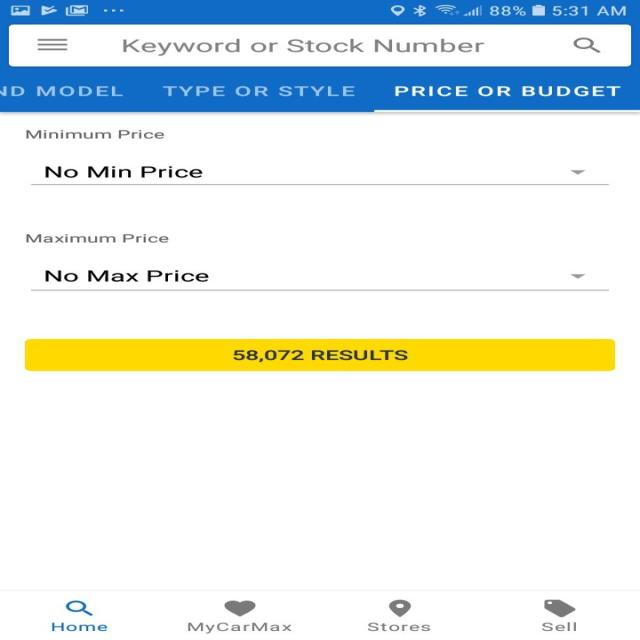EditText: (9, 24, 631, 67), (30, 164, 609, 186), (30, 270, 609, 291)
Icon: (542, 598, 575, 617), (223, 600, 256, 616), (64, 600, 94, 616), (572, 38, 600, 53), (36, 38, 68, 51), (388, 599, 410, 617), (569, 170, 586, 174), (569, 274, 585, 278)
Text: (122, 38, 484, 56), (394, 85, 620, 96), (162, 85, 354, 97), (44, 165, 202, 178), (44, 270, 209, 282), (26, 233, 169, 243), (25, 129, 164, 139), (186, 621, 292, 634), (0, 85, 124, 96), (367, 621, 430, 631), (51, 621, 108, 631), (540, 622, 576, 632)
TextButton: (24, 338, 614, 371)
